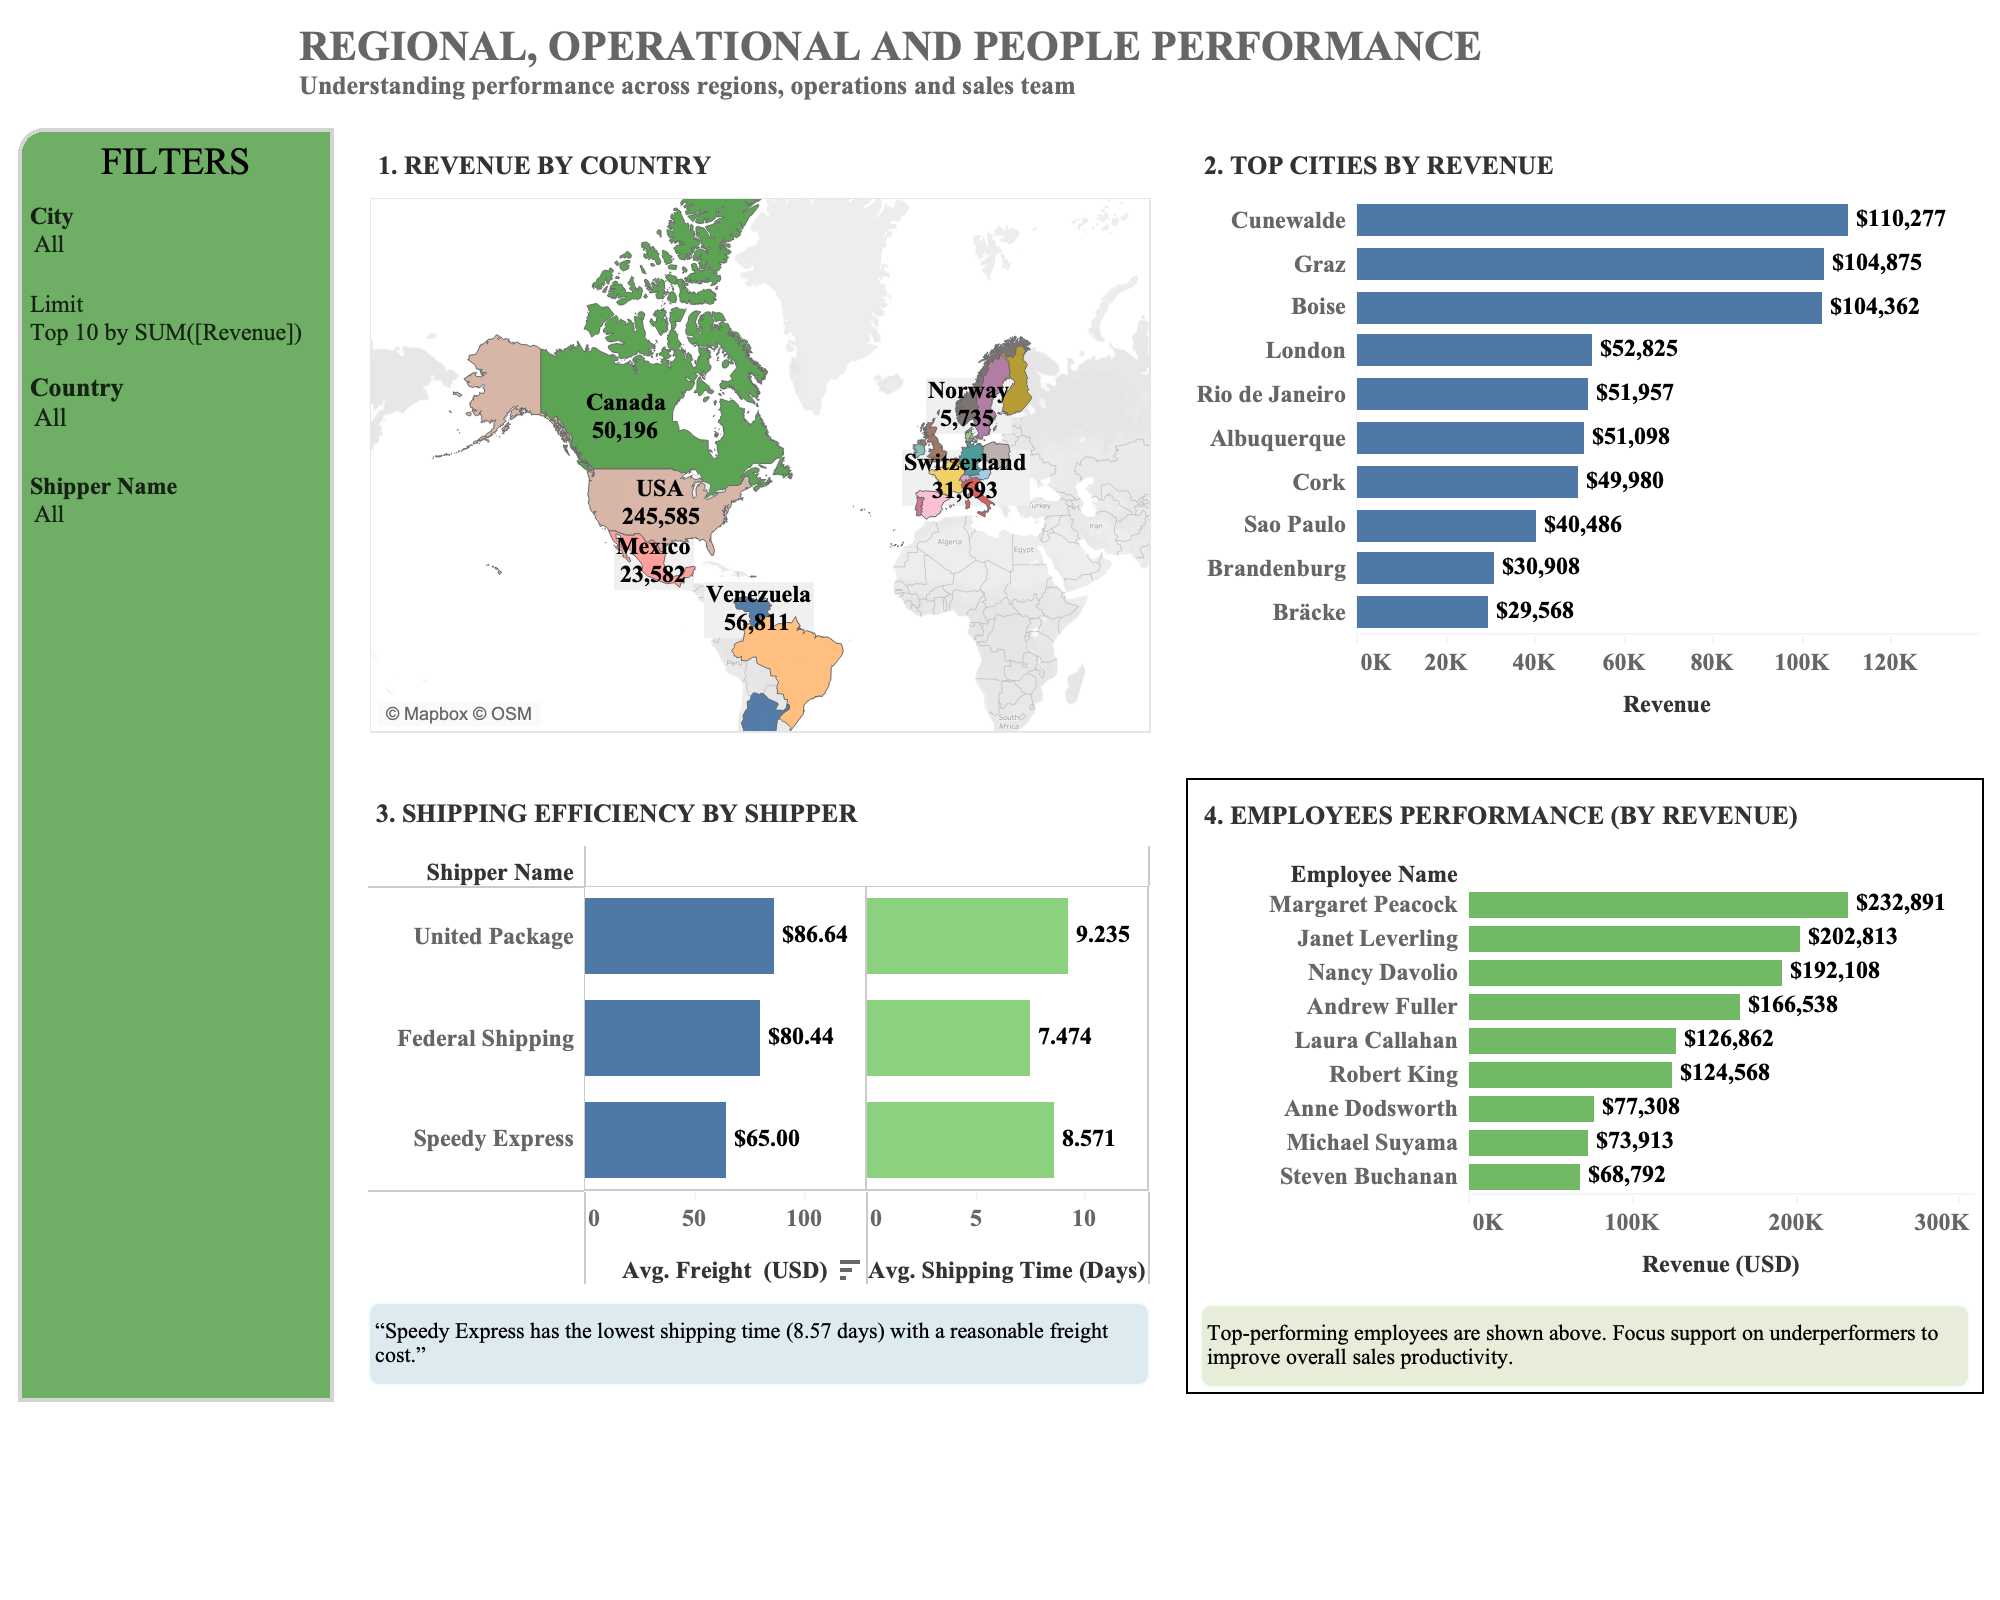

What the dashboard file says about the page in this screenshot:
{"tool":"tableau","page":{"name":"Regional and people performance","canvas":[1000,800],"ordinal":2},"visuals":[{"type":"text","box":[147,5,663,52]},{"type":"worksheet","title":"Revenue by country","mark":"Multipolygon","box":[181,65,399,306]},{"type":"worksheet","title":"Top cities","mark":"Bar","rows":["city"],"cols":["Calculation_0364071424393216"],"box":[594,65,399,305]},{"type":"text","box":[11,66,154,30]},{"type":"filter","title":"Top cities","param":"[federated.0mvdz6j06fmfxy10p40rm1pjm4gl].[none:city:nk]","box":[11,96,154,85]},{"type":"filter","title":"Revenue by country","param":"[federated.0mvdz6j06fmfxy10p40rm1pjm4gl].[none:country:nk]","box":[11,181,154,50]},{"type":"filter","title":"Shipping Efficiency","param":"[federated.0mvdz6j06fmfxy10p40rm1pjm4gl].[none:companyName (shippers.csv):nk]","box":[11,231,154,49]},{"type":"worksheet","title":"Shipping Efficiency","mark":"Automatic","rows":["companyName (shippers.csv)"],"cols":["freight","Calculation_0041846162857998"],"box":[180,389,399,258]},{"type":"worksheet","title":"EMPLOYEES PERFORMANCE","mark":"Automatic","rows":["employeeName"],"cols":["Calculation_0364071424393216"],"box":[594,390,397,260]},{"type":"text","box":[180,647,399,50]},{"type":"text","box":[594,650,397,46]}]}

Visuals, with their boxes in screenshot pixels (x1, y1, x2, y2), scaled from the page's 1000x800 canvas onto the 2000x1600 screenshot:
text: 294, 10, 1620, 114
"Revenue by country" worksheet (Multipolygon marks): 362, 130, 1160, 742
"Top cities" worksheet (Bar marks): 1188, 130, 1986, 740
text: 22, 132, 330, 192
"Top cities" filter: 22, 192, 330, 362
"Revenue by country" filter: 22, 362, 330, 462
"Shipping Efficiency" filter: 22, 462, 330, 560
"Shipping Efficiency" worksheet: 360, 778, 1158, 1294
"EMPLOYEES PERFORMANCE" worksheet: 1188, 780, 1982, 1300
text: 360, 1294, 1158, 1394
text: 1188, 1300, 1982, 1392
